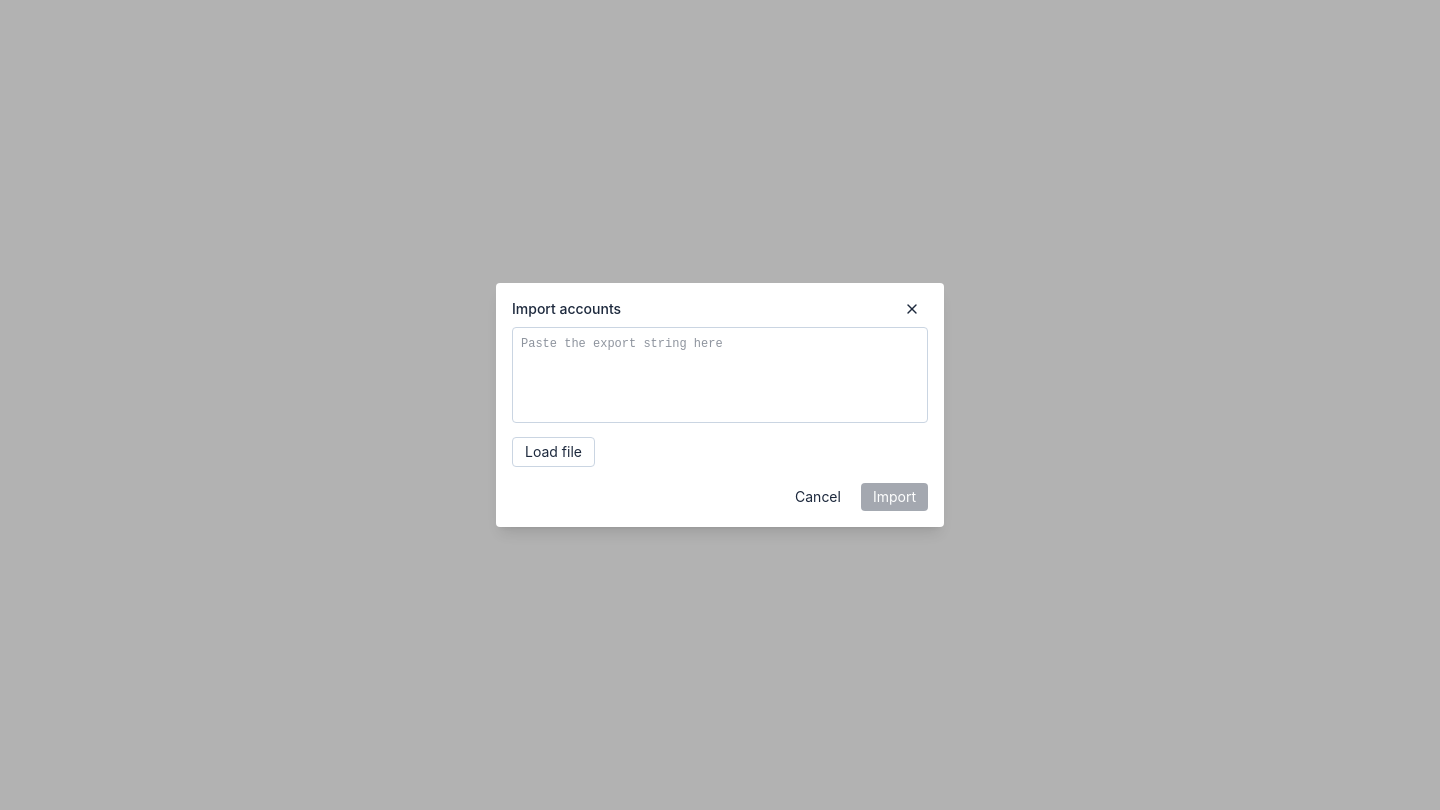
Test case: ImportAccountsDialog › previews an unencrypted blob: shows the list, no password field, import enabled
Type "BLOB" into the text box named "Import data" at (720,375), box [512, 327, 928, 423]
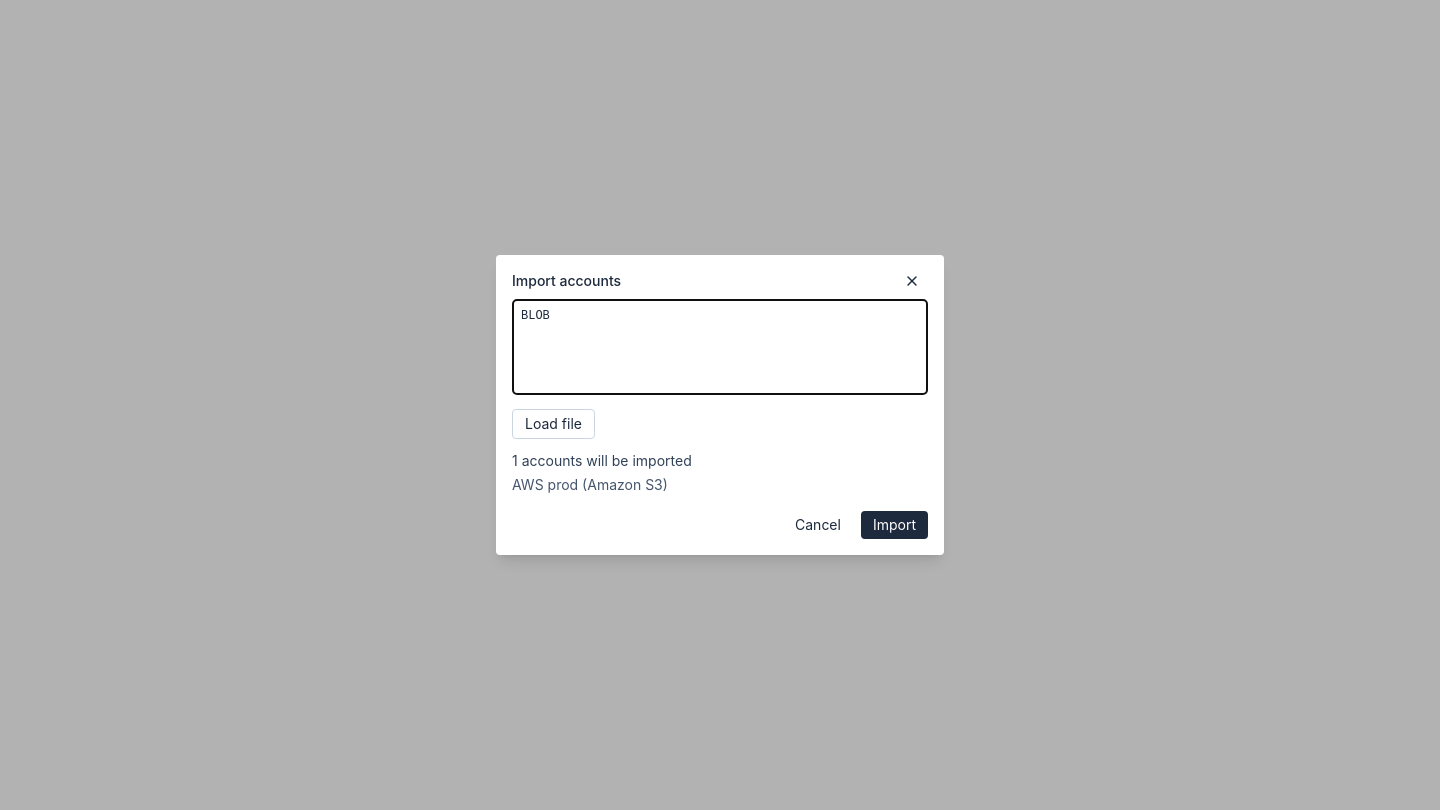
expect the list item "AWS prod (Amazon S3)" is shown: met, box [512, 476, 668, 493]
expect the button "Import" is enabled: met, box [861, 511, 928, 539]
